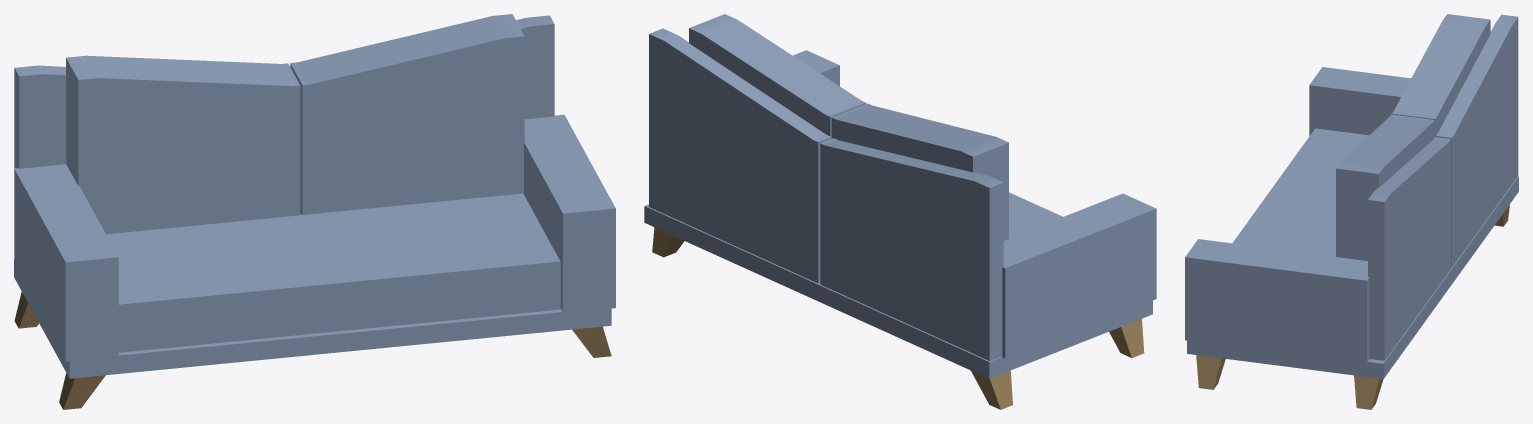
Rendered from M_Sofa.fbx.
3 renders of one model, left to right at view 1: azimuth 30°, elevation 25°; view 2: azimuth 150°, elevation 25°; view 3: azimuth 270°, elevation 25°, orthographic. The views are drawn at different scales.
Parts seen in each view (by area): view 1: pCube6, pCube3, pCube2, pCube1, pCube5, pCube7, pCube10, pCube8, pCube9, pCube11, pCube15; view 2: pCube8, pCube9, pCube5, pCube10, pCube6, pCube3, pCube1, pCube12, pCube11, pCube7, pCube14; view 3: pCube7, pCube9, pCube8, pCube6, pCube3, pCube5, pCube10, pCube1, pCube2, pCube15, pCube14.
Part boxes in pixels (x1,y1,x2,y2): pCube6: (290,14,524,214); pCube3: (66,55,300,234); pCube2: (301,193,560,331); pCube1: (106,214,338,352); pCube5: (14,164,118,361); pCube7: (524,114,615,313); pCube10: (14,259,611,378); pCube8: (14,65,66,168); pCube9: (516,15,554,119); pCube11: (59,373,105,409); pCube15: (572,326,611,357); pCube8: (820,138,1003,360); pCube9: (649,28,831,283); pCube5: (1002,193,1156,358); pCube10: (644,204,1152,378); pCube6: (689,14,866,136); pCube3: (831,103,1008,240); pCube1: (1009,192,1062,238); pCube12: (971,370,1012,409); pCube11: (1109,319,1144,357); pCube7: (793,50,839,86); pCube14: (652,227,684,257); pCube7: (1185,239,1369,363); pCube9: (1368,137,1450,360); pCube8: (1436,14,1518,267); pCube6: (1336,114,1434,260); pCube3: (1392,14,1490,136); pCube5: (1309,67,1410,135); pCube10: (1187,176,1518,378); pCube1: (1260,128,1368,214); pCube2: (1232,205,1335,256); pCube15: (1196,355,1225,389); pCube14: (1354,375,1383,409).
Bounding box in the file's own units: 27.93 × 13.22 × 18.38.
